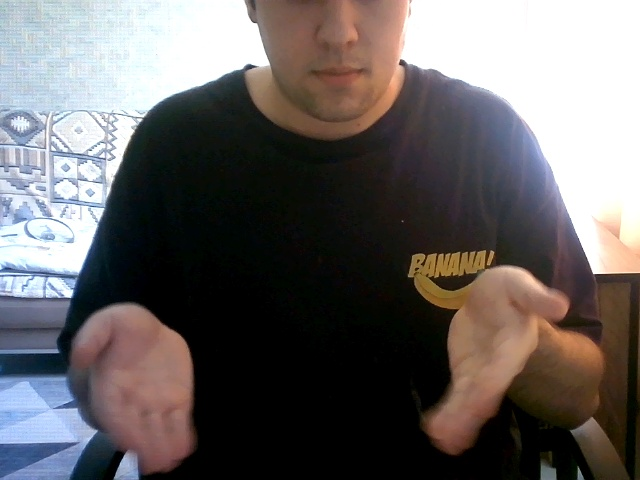hello: (70, 258, 593, 462)
